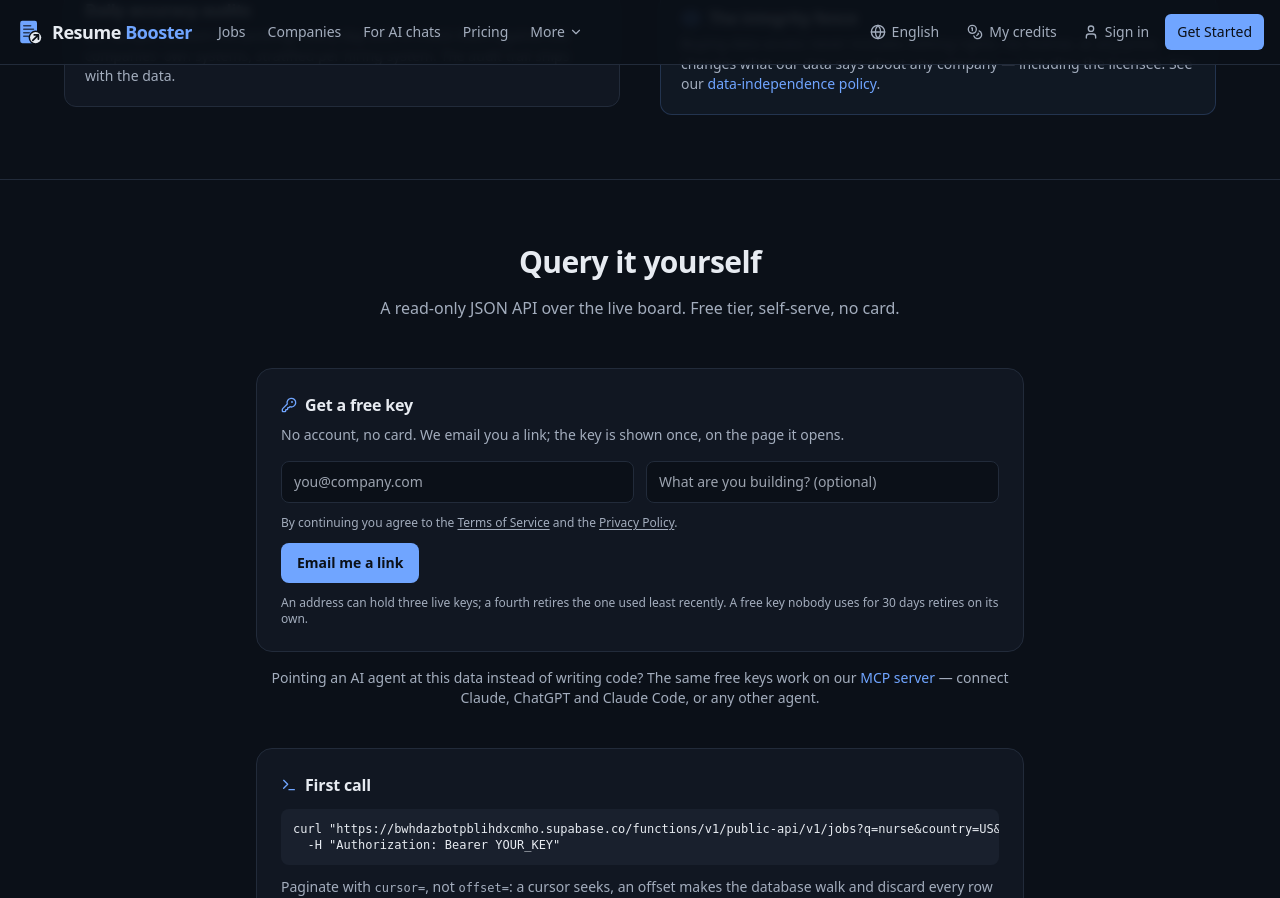
Test case: /data-api: a key needs the mailbox, and the link needs a click › the request form promises a link, sends the address, and shows no key
(page scrolled)
In the field named "Email address": (458, 482) [281, 461, 634, 503], type "dev@example.org"
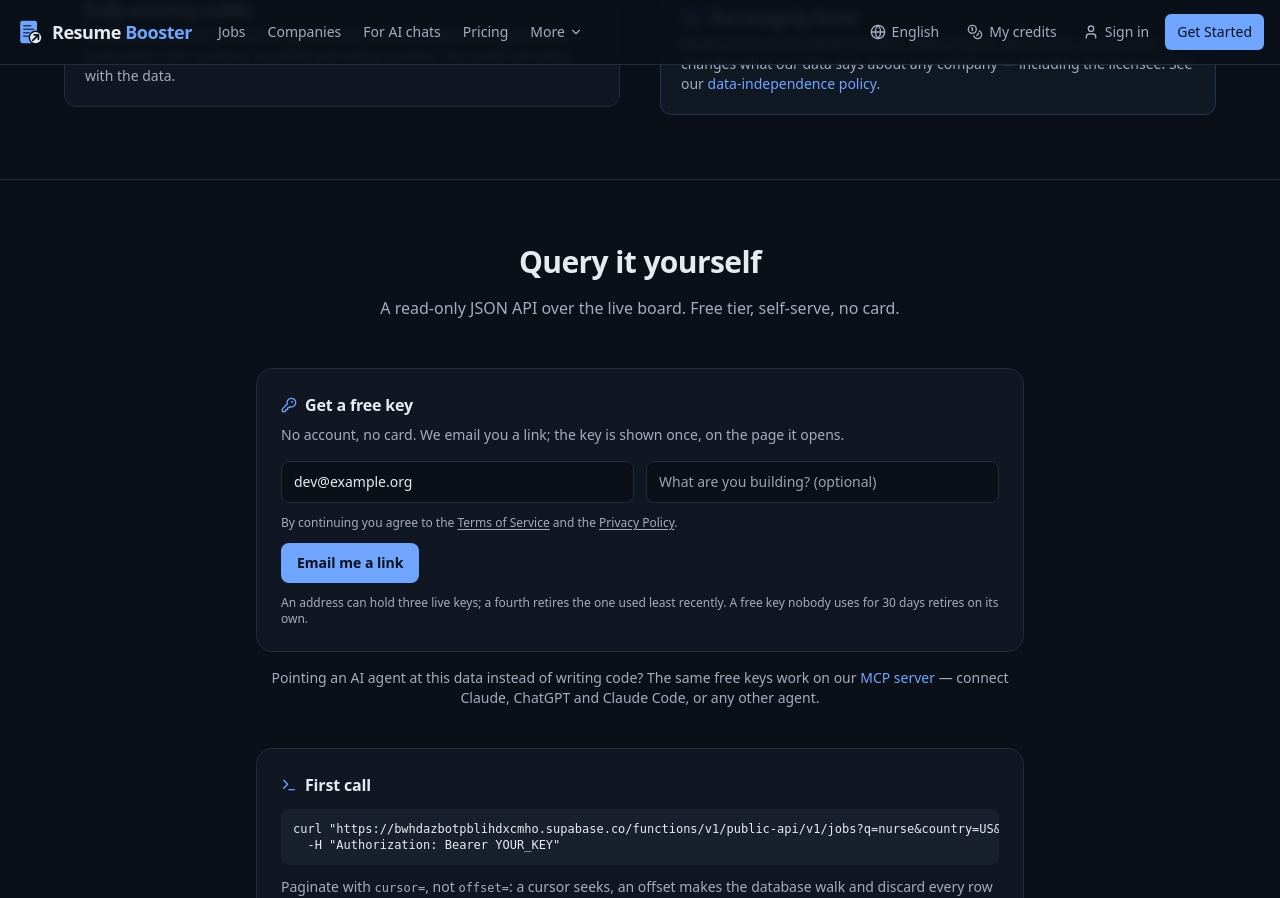
Click the button "Email me a link": (350, 563) [281, 543, 419, 583]
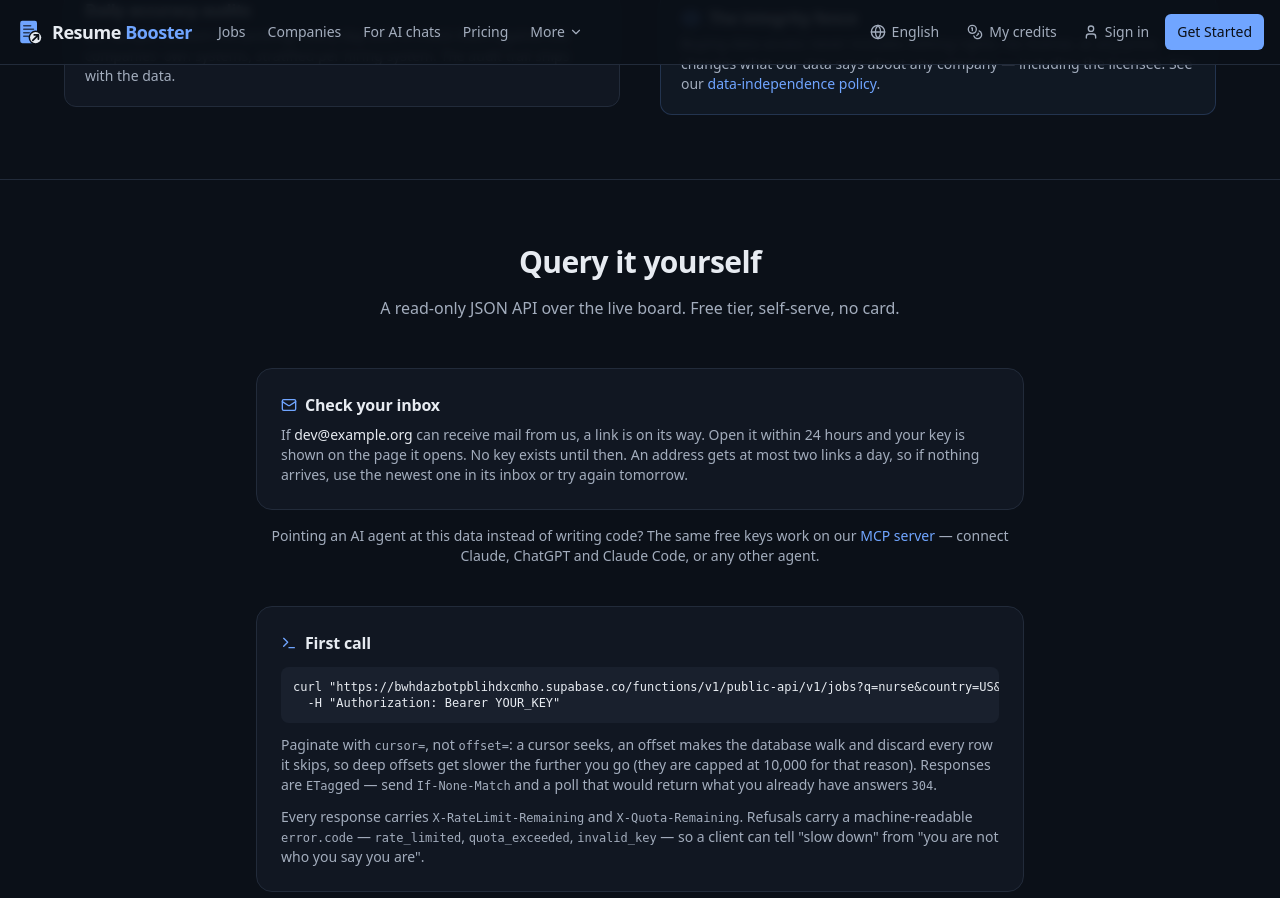
Now the heading "Check your inbox" is shown, box [281, 394, 440, 416]
Now the text "can receive mail from us, a link is on its way" is shown, box [281, 425, 979, 484]
